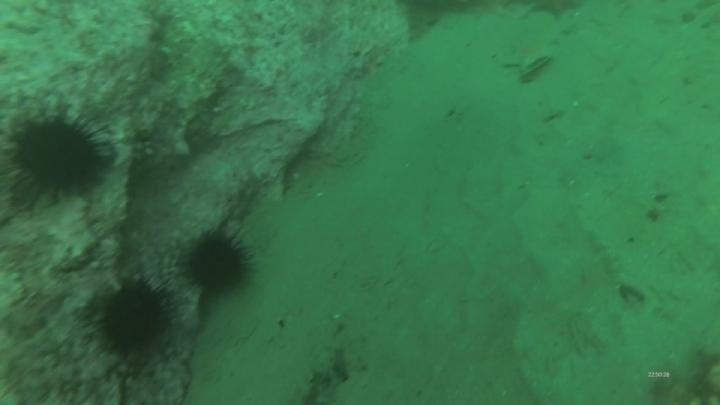echinus: (4, 107, 111, 205), (91, 275, 176, 360), (180, 224, 257, 299)
starfish: (495, 30, 561, 75), (524, 0, 585, 23)
